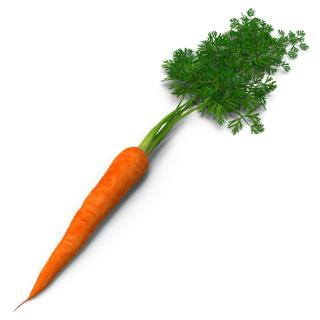Wortel: (7, 12, 311, 320)
